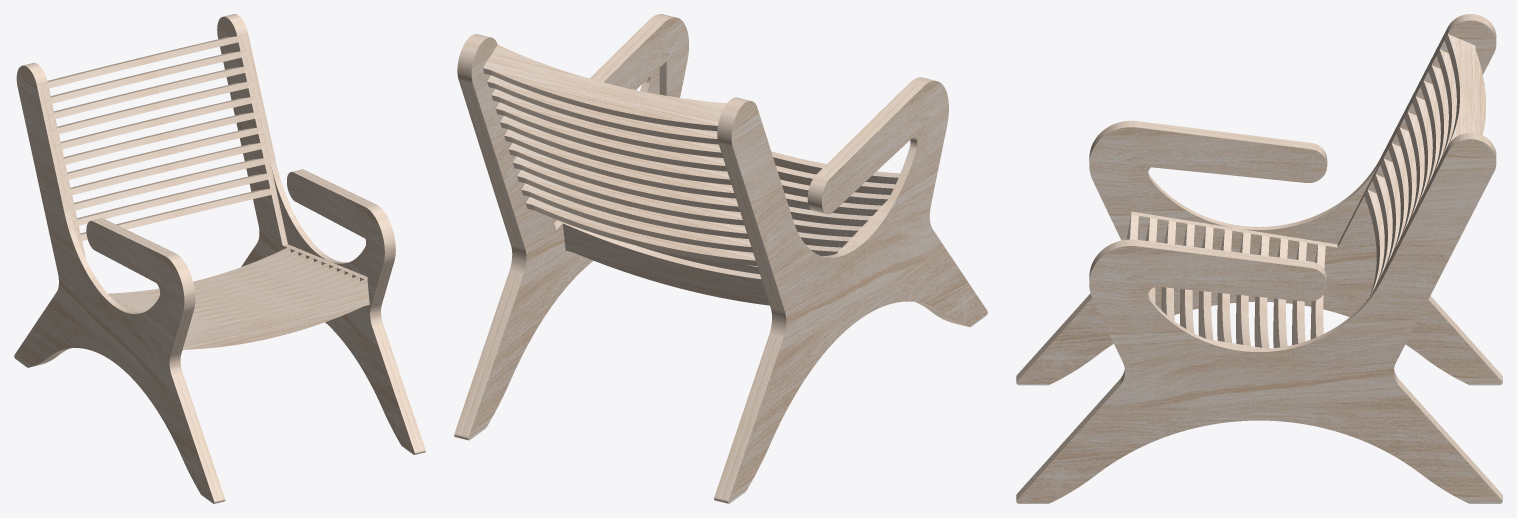
File: obj_prime_arch_eea15a.glb
The picture shows the model from 3 angles, left to right: view 1: azimuth 30°, elevation 25°; view 2: azimuth 150°, elevation 25°; view 3: azimuth 270°, elevation 25°; orthographic projection. The views are drawn at different scales.
Parts seen in each view (by area): view 1: obj_prime_arch_eea15a; view 2: obj_prime_arch_eea15a; view 3: obj_prime_arch_eea15a.
Part boxes in pixels (left/top/right/bottom): obj_prime_arch_eea15a: left=14, top=14, right=425, bottom=503; obj_prime_arch_eea15a: left=454, top=14, right=987, bottom=503; obj_prime_arch_eea15a: left=1016, top=14, right=1502, bottom=503.
Size of the model in its own units: 0.6259 by 0.85 by 1.03.
Materials: 2 (2 with a texture image).
